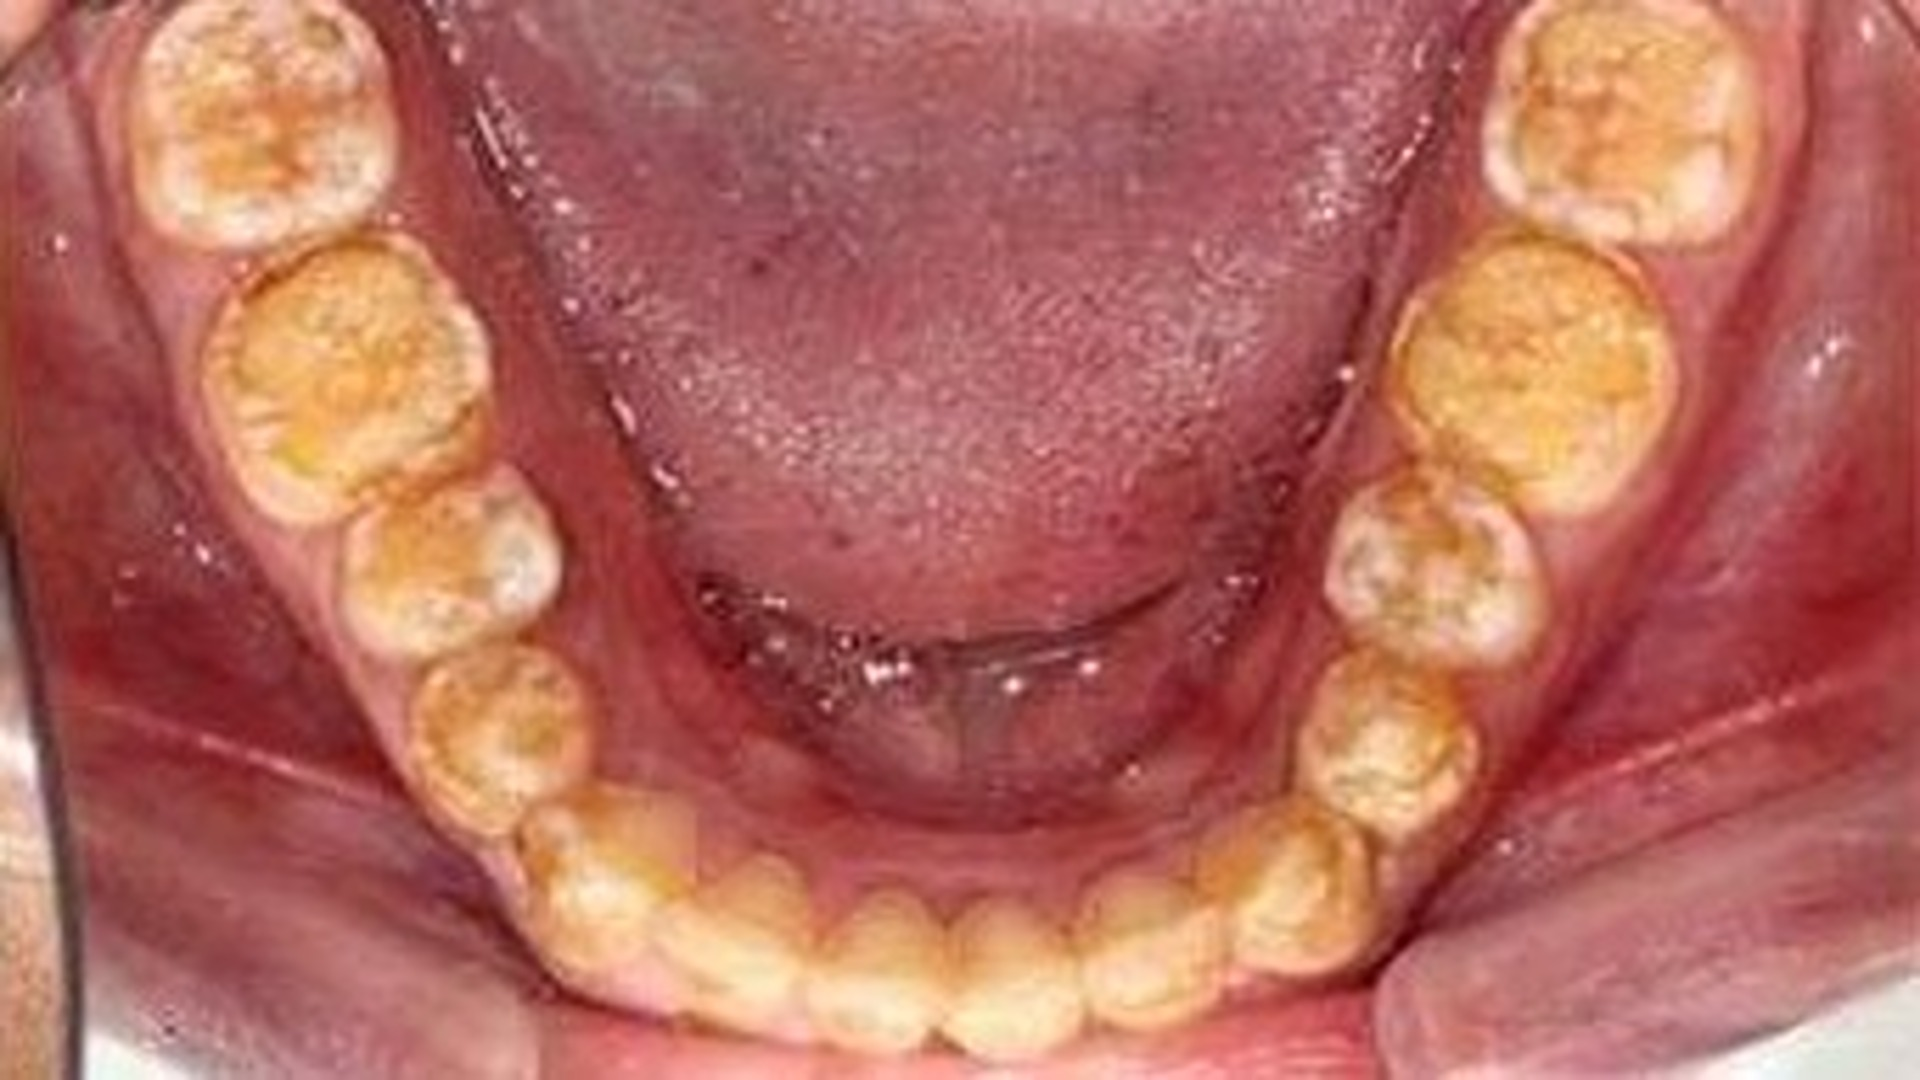tooth: (199, 229, 495, 529), (1385, 236, 1679, 517), (123, 1, 404, 255), (1485, 1, 1768, 249), (1324, 462, 1557, 673), (330, 462, 563, 669), (404, 638, 593, 837), (1295, 646, 1481, 843), (1189, 794, 1385, 976), (512, 781, 698, 971), (651, 855, 818, 1040), (1073, 861, 1241, 1030), (939, 897, 1084, 1058), (808, 886, 947, 1048)
